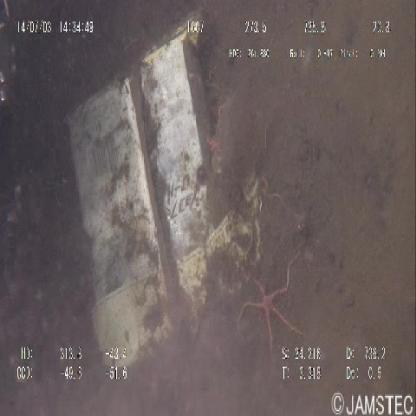Rác: (51, 12, 265, 376)
